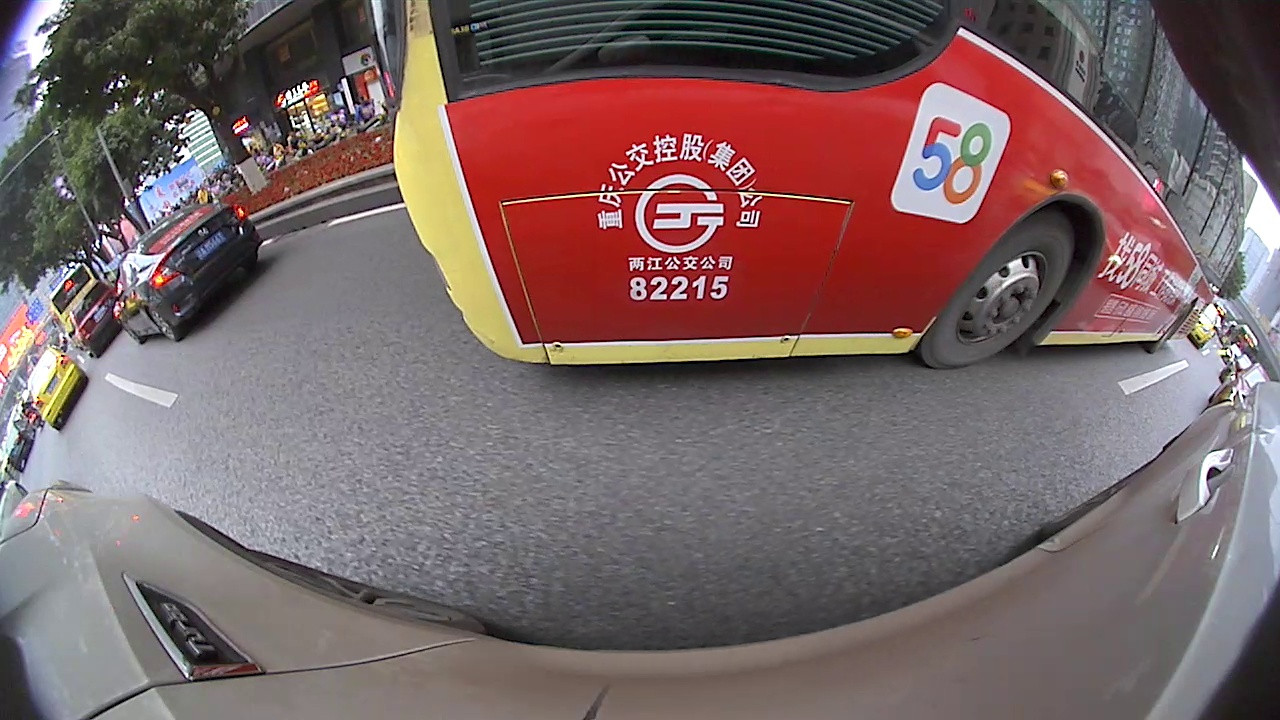bus: (360, 0, 1252, 373)
car: (115, 197, 263, 346), (23, 349, 97, 433), (63, 276, 133, 360)
front: (913, 210, 1080, 372), (117, 321, 142, 347)
rear: (1145, 303, 1196, 353), (141, 301, 184, 344)
